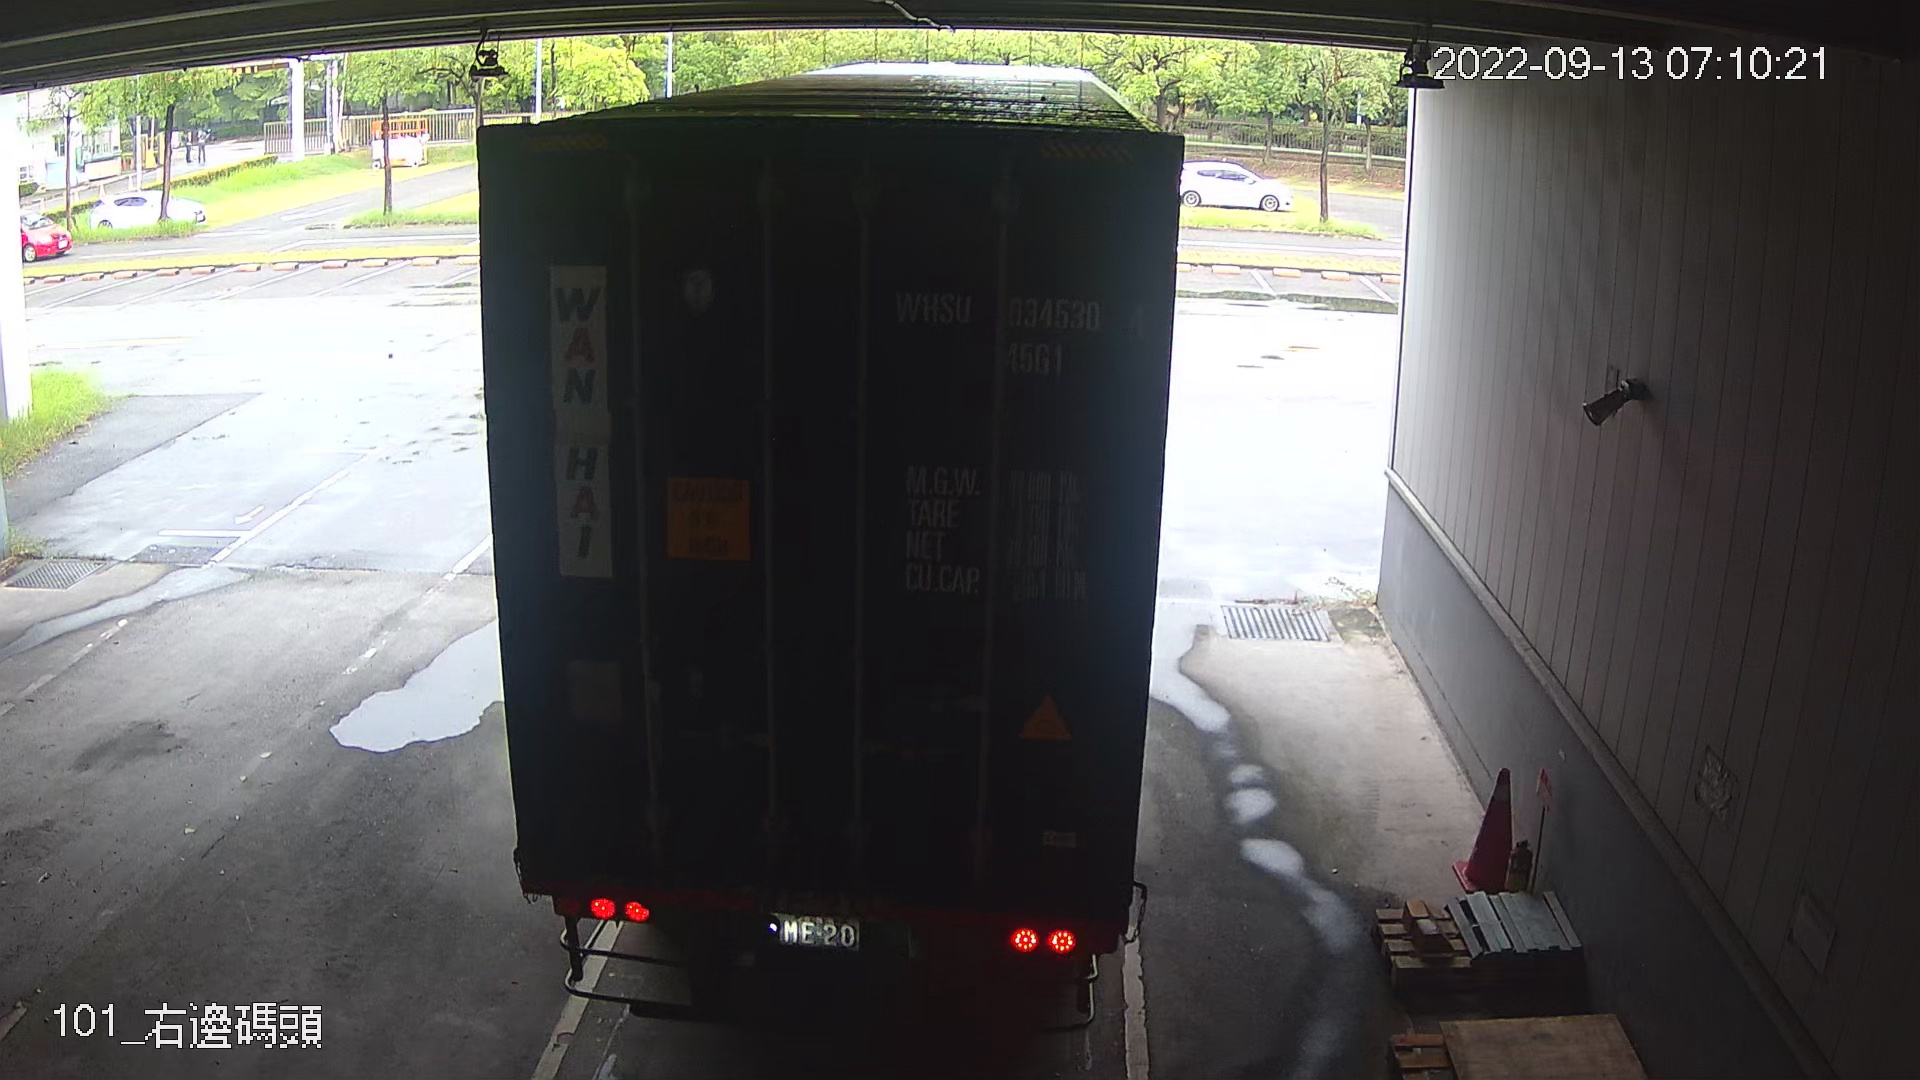container: (887, 276, 1163, 378)
